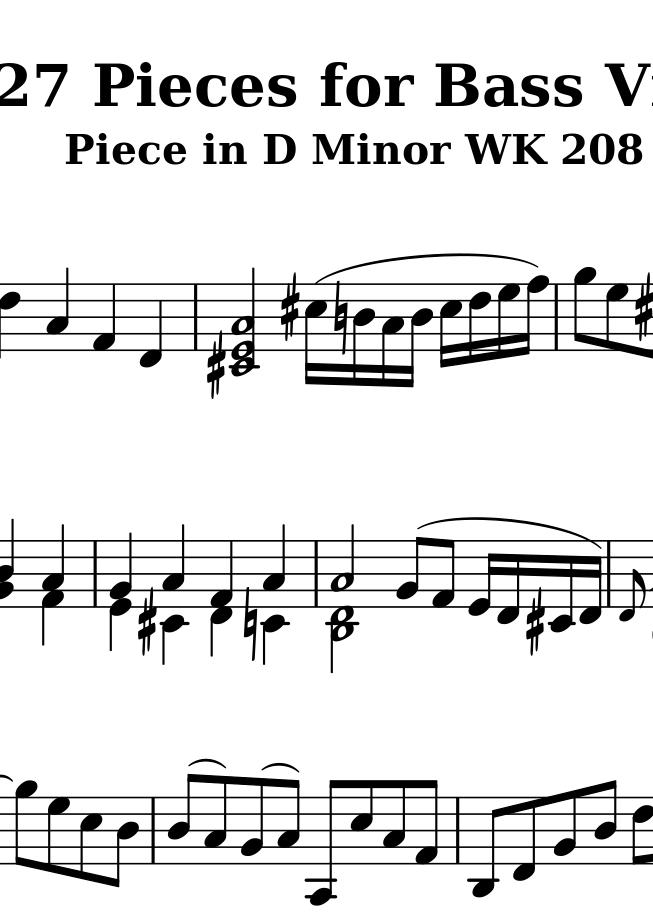16_-1: (496, 538, 522, 626), (579, 540, 605, 626)
16_-2: (549, 540, 574, 633)
16_0: (464, 539, 496, 621)
16_3: (380, 282, 405, 390)
16_4: (404, 282, 433, 390), (353, 281, 374, 390)
16_5: (303, 283, 326, 388), (439, 281, 462, 369)
16_6: (467, 282, 494, 363)
16_7: (496, 280, 519, 361)
16_8: (519, 274, 550, 357)
2_3: (327, 518, 357, 609)
4_-1: (137, 282, 164, 372)
4_-1_1: (210, 539, 233, 660)
4_-2_3: (161, 523, 191, 665)
4_0_2: (109, 531, 133, 652)
4_1: (89, 282, 119, 355)
4_1_3: (40, 524, 67, 646)
4_3: (44, 266, 73, 354), (261, 524, 286, 609)
8_-1: (510, 795, 540, 882)
8_-3: (468, 796, 503, 900)
8_-4: (303, 777, 343, 908)
8_1: (411, 777, 440, 865), (429, 538, 455, 612)
8_2: (238, 775, 265, 867), (393, 535, 426, 610), (552, 789, 578, 868)
8_3: (202, 774, 229, 869), (274, 778, 301, 869), (381, 778, 408, 866)
8_4: (106, 796, 141, 891), (164, 772, 199, 866), (593, 778, 618, 867)
8_5: (344, 777, 375, 866), (77, 796, 102, 883)
8_6: (627, 795, 653, 868)
8_7: (44, 796, 70, 876), (605, 281, 627, 355)
8_9: (11, 778, 37, 872), (573, 265, 597, 353)
Natural: (240, 586, 258, 665), (332, 279, 351, 353)
Sharp: (277, 271, 300, 343), (136, 584, 158, 656), (206, 329, 227, 396), (634, 270, 653, 342), (527, 588, 544, 655)
Single_barline: (85, 541, 104, 606), (187, 283, 204, 351), (601, 540, 617, 608), (146, 797, 161, 862), (309, 542, 324, 607), (451, 797, 465, 863), (550, 285, 563, 352)
Slur: (419, 516, 601, 552), (315, 254, 542, 282), (260, 762, 298, 775), (187, 758, 225, 769)
